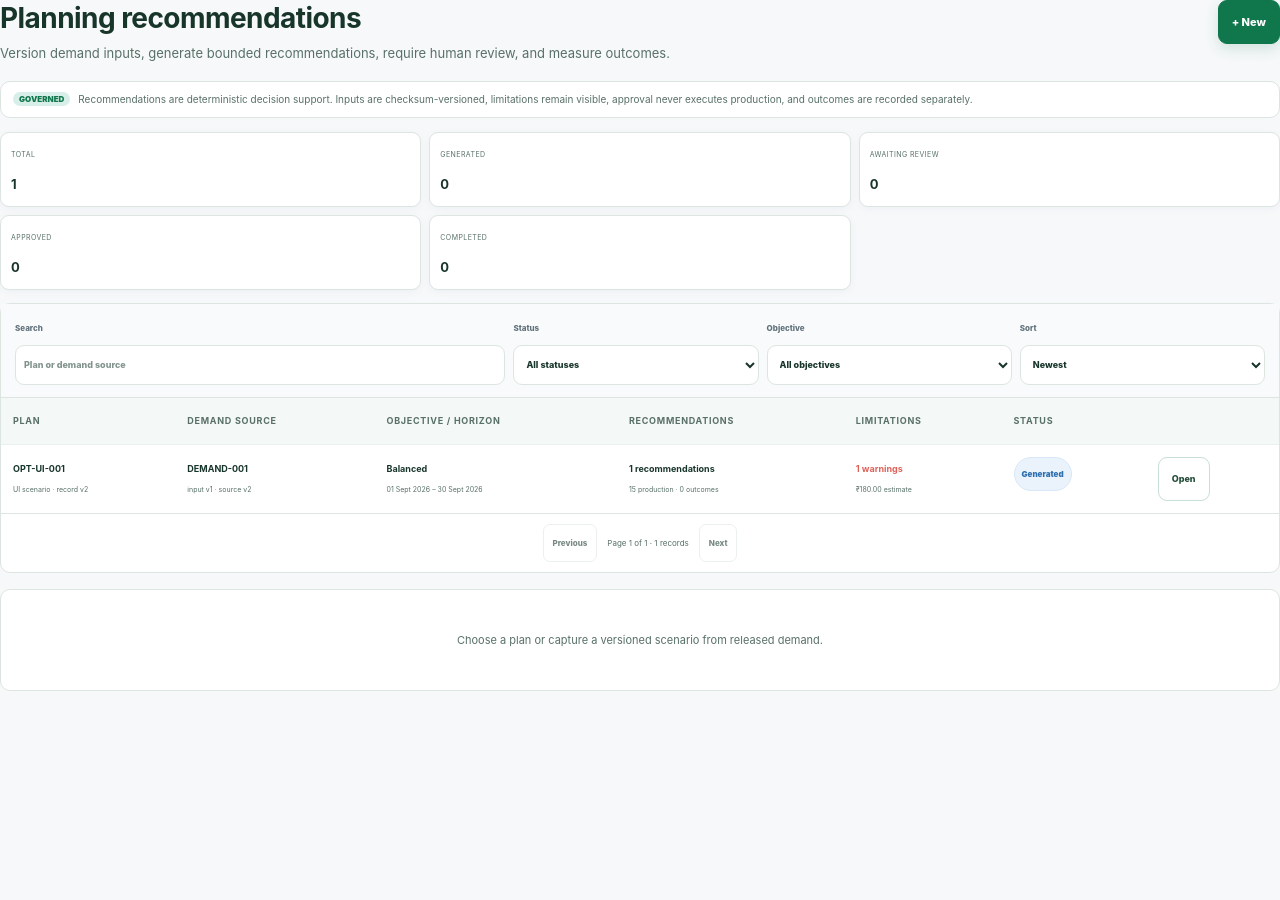
Scenario: Forecast & Optimisation workspace › shows recommendation limitations and submits the exact record version for review
Click the button "Open": coordinates (1184, 479) [1158,457,1210,501]
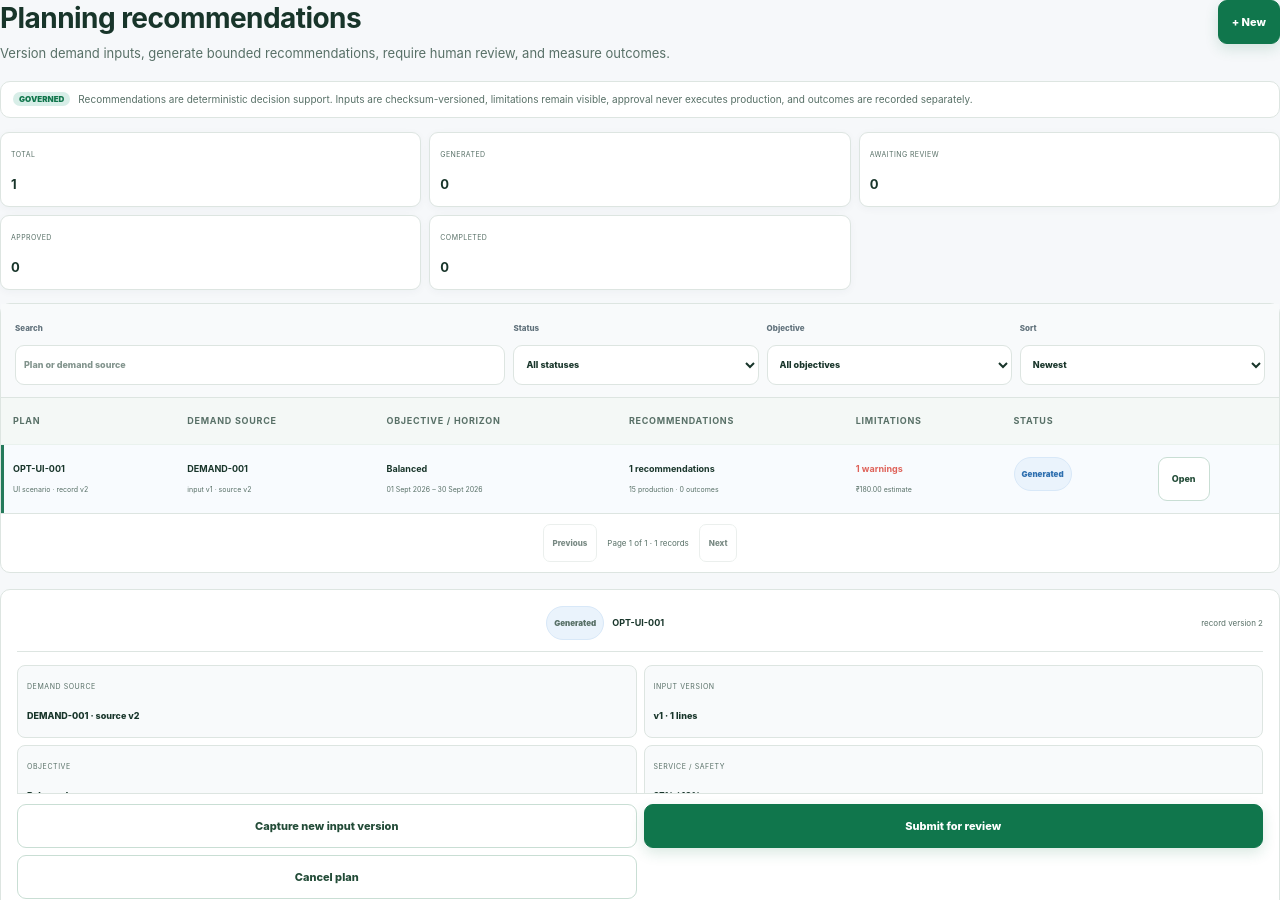
Click the button "Submit for review": coordinates (953, 826) [644,804,1263,848]
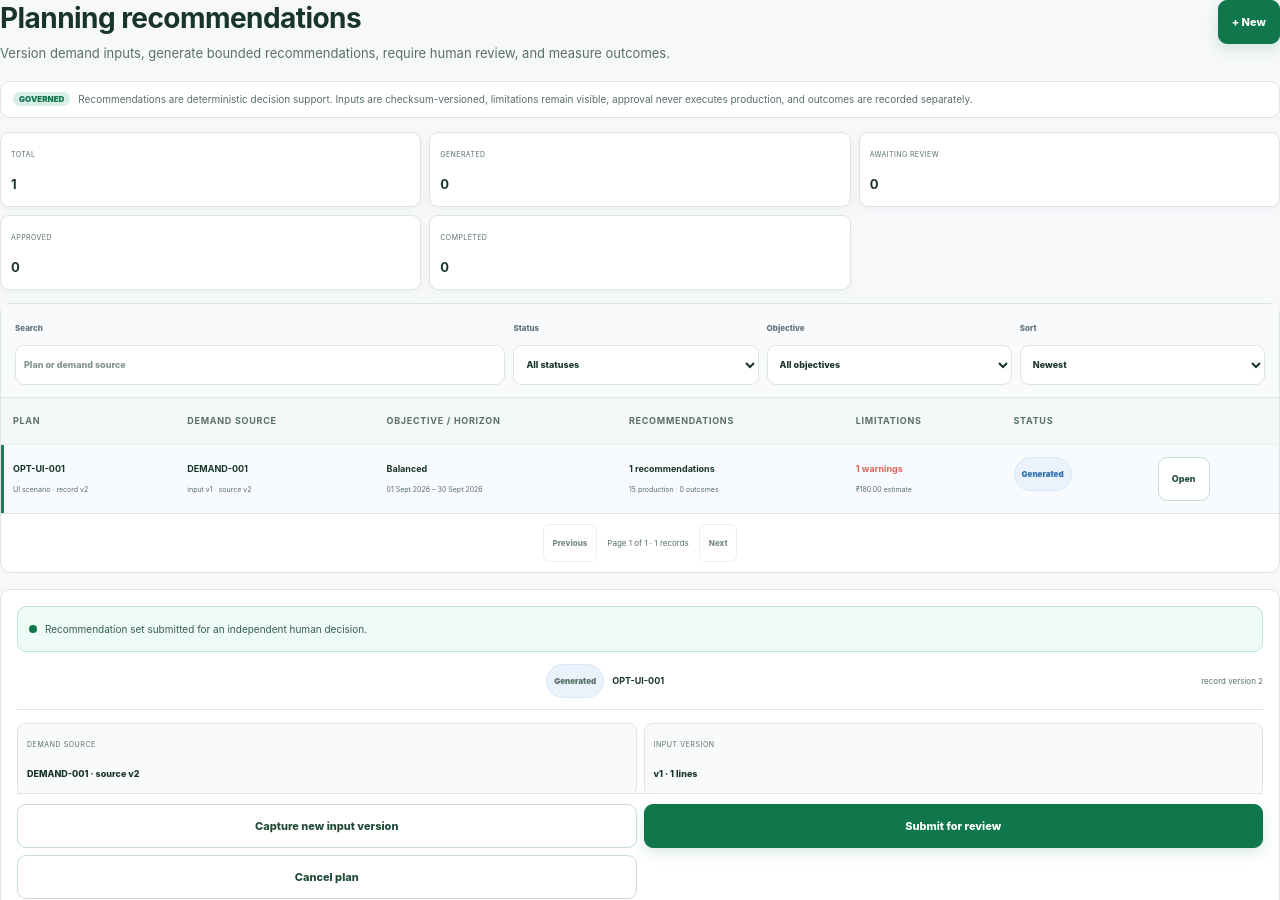
Now the text "Recommendation set submitted for an independent human decision." is shown, box [17,606,1263,652]
